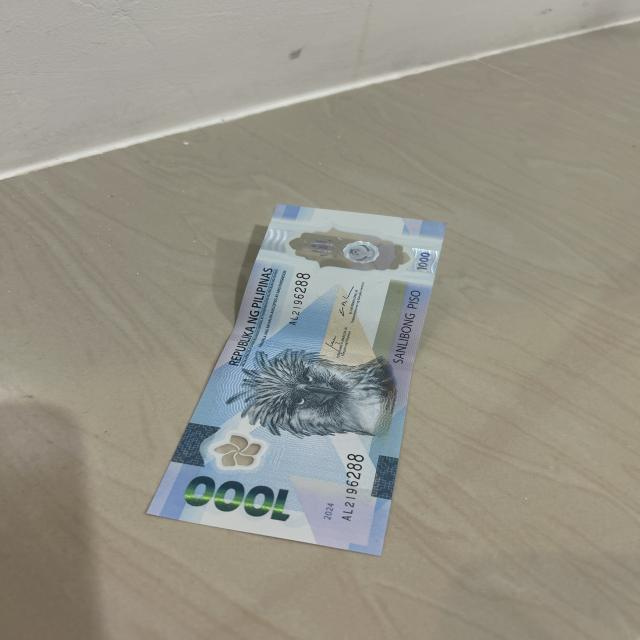clear_window: (278, 227, 427, 276)
eagle: (244, 348, 396, 438)
sampaguita: (204, 431, 266, 470)
serial_number: (333, 448, 372, 534), (283, 272, 311, 328)
